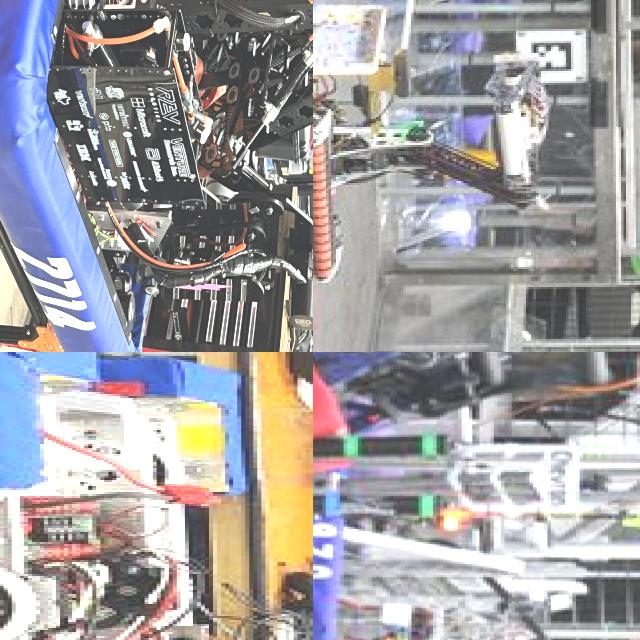FRC-Robots: (313, 0, 640, 352), (0, 352, 313, 640), (313, 427, 640, 640), (313, 352, 640, 444)
